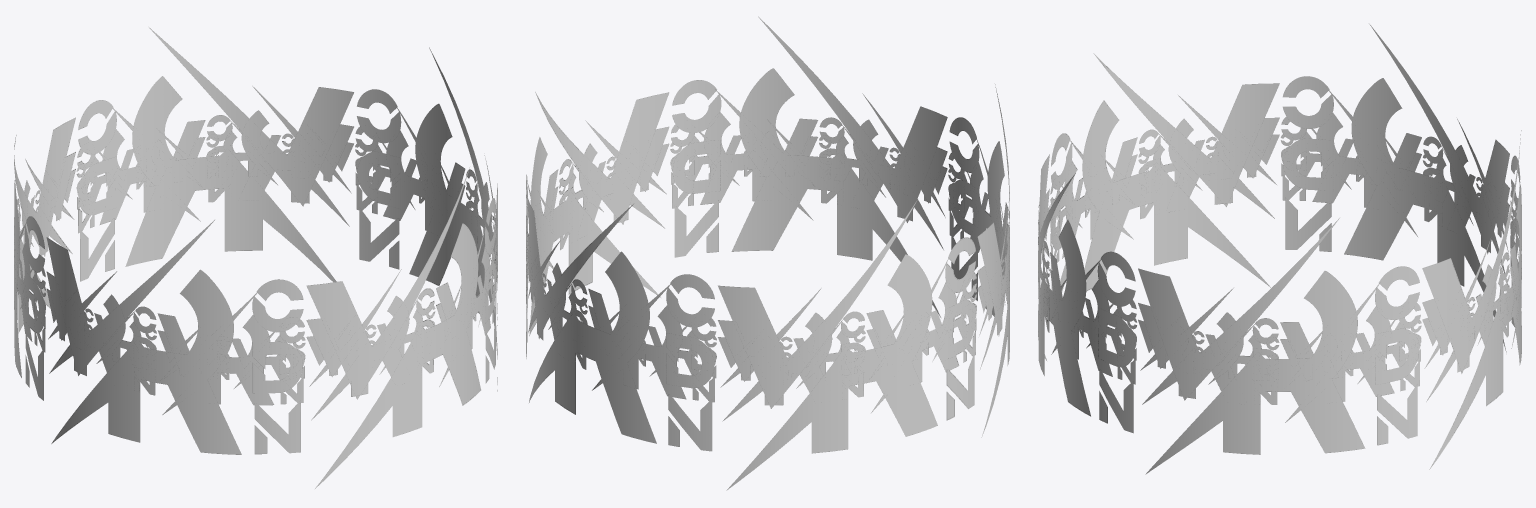
The model's file is band.fbx.
3 renders of one model, left to right at view 1: azimuth 30°, elevation 25°; view 2: azimuth 150°, elevation 25°; view 3: azimuth 270°, elevation 25°, orthographic.
Parts seen in each view (by area): view 1: Thicc_Band, Thick_Band, Thin_Band; view 2: Thicc_Band, Thick_Band, Thin_Band; view 3: Thicc_Band, Thick_Band, Thin_Band.
Boxes of the visible parts, bbox=[...] form: Thicc_Band: bbox=[14, 27, 497, 488]; Thick_Band: bbox=[14, 86, 497, 420]; Thin_Band: bbox=[14, 121, 497, 388]; Thicc_Band: bbox=[526, 16, 1009, 490]; Thick_Band: bbox=[526, 89, 1009, 421]; Thin_Band: bbox=[526, 119, 1009, 388]; Thicc_Band: bbox=[1038, 24, 1521, 474]; Thick_Band: bbox=[1038, 90, 1521, 422]; Thin_Band: bbox=[1038, 129, 1521, 386].
Size of the model in its own units: 1.27 by 0.8 by 1.27.
